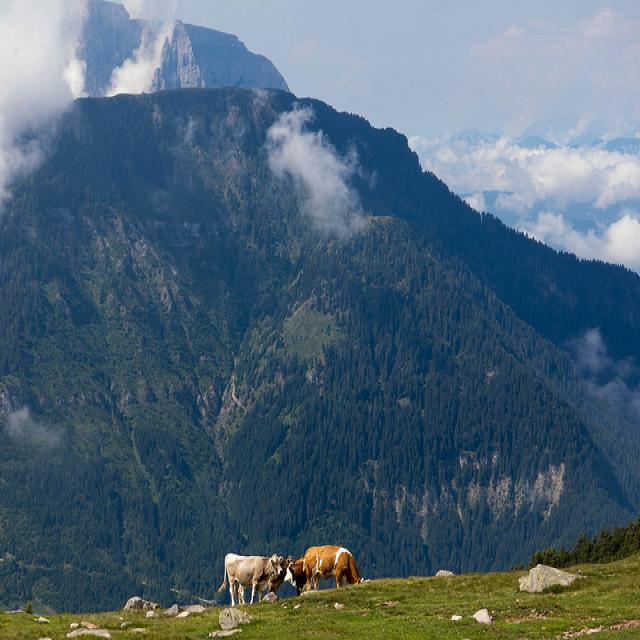cow: (288, 543, 364, 589), (217, 552, 282, 605), (292, 556, 303, 573)
